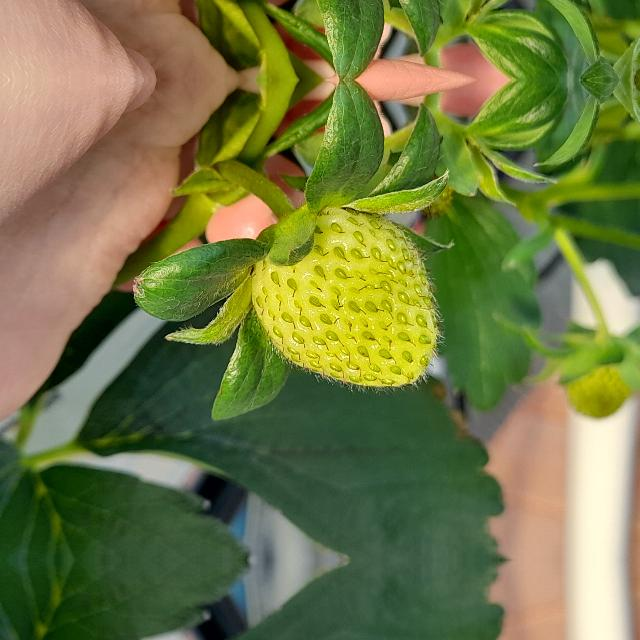Health_25: (250, 207, 446, 395)
